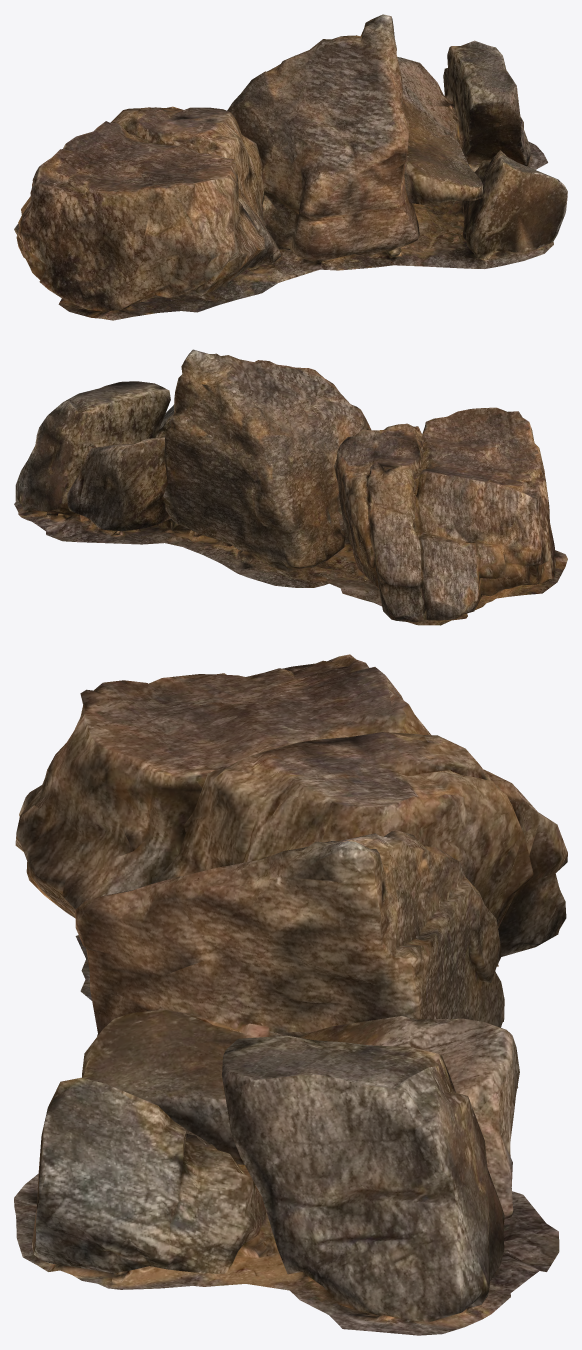
The model's file is rock_cluster_sandstone.glb.
3 views of the same model, one above another, from view 1: azimuth 30°, elevation 25°; view 2: azimuth 150°, elevation 25°; view 3: azimuth 270°, elevation 25° (orthographic). The views are drawn at different scales.
Visible parts, largest first — view 1: boulder_02; view 2: boulder_02; view 3: boulder_02.
Part boxes in pixels (x1=…): boulder_02: x1=14, y1=14, x2=567, y2=320; boulder_02: x1=14, y1=349, x2=567, y2=625; boulder_02: x1=14, y1=654, x2=567, y2=1335.
Size of the model in its own units: 2.52 by 0.8802 by 1.23.
1 material, 1 textured.
